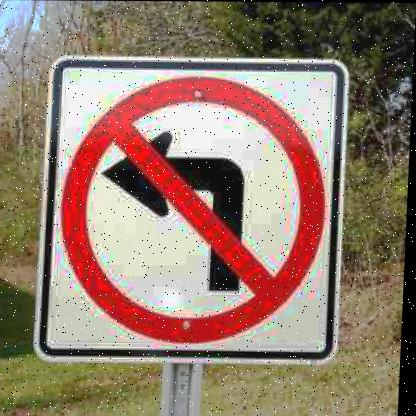No left turn: (41, 67, 348, 365)
